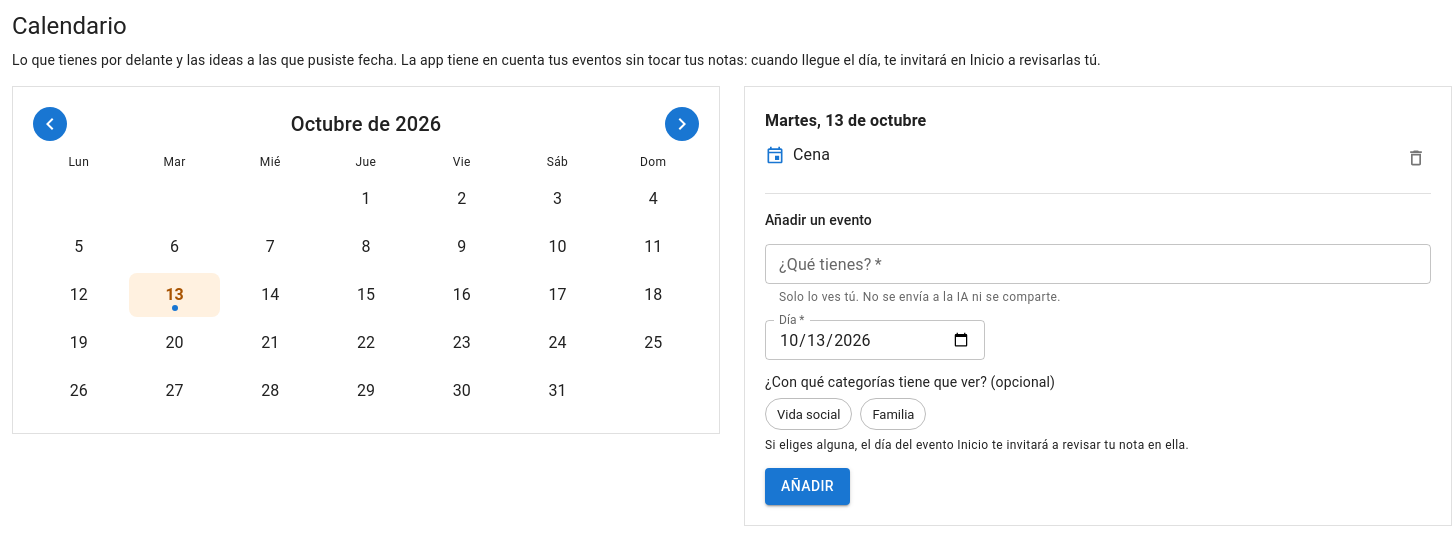
Test: CalendarPage (RF-48) › borra un evento
This screenshot has width=1452, height=543.
Step 1. Click the button named "Borrar «Cena»" → point(1416, 158), box [1401,143,1431,173]
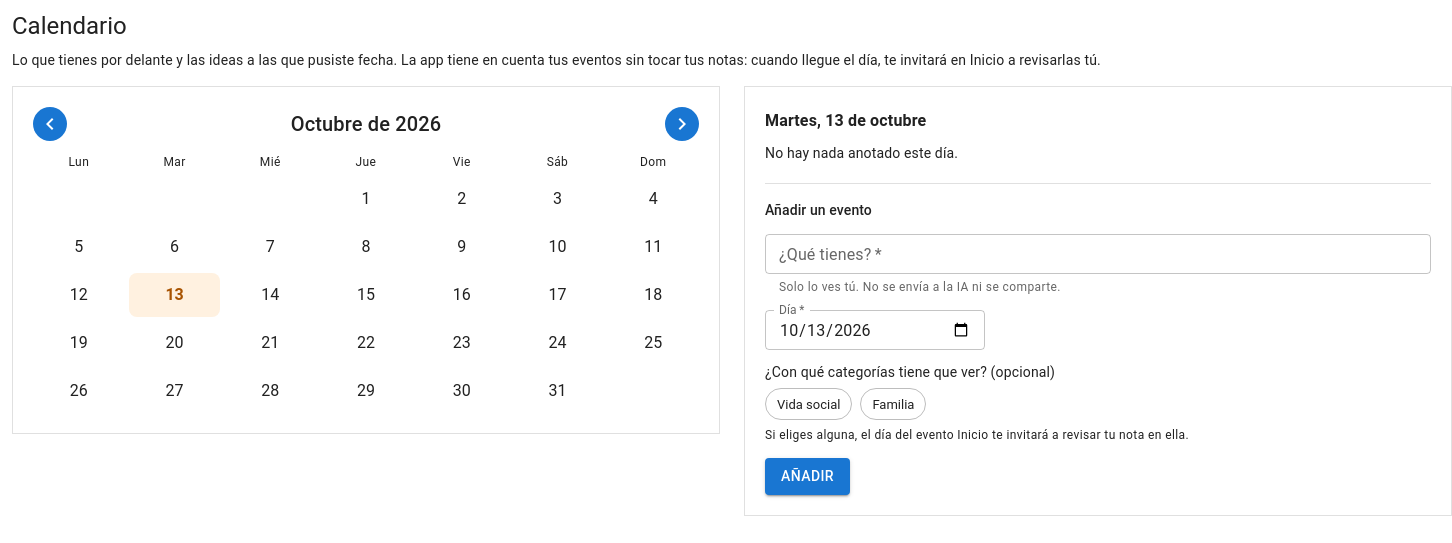
Expected: the text "Cena" is gone
